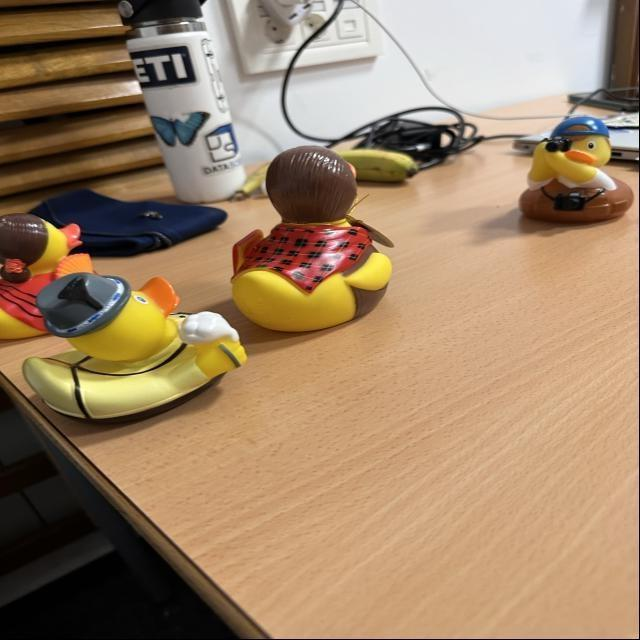rubber-duck: (231, 145, 390, 330), (22, 311, 245, 419), (519, 115, 631, 220)
